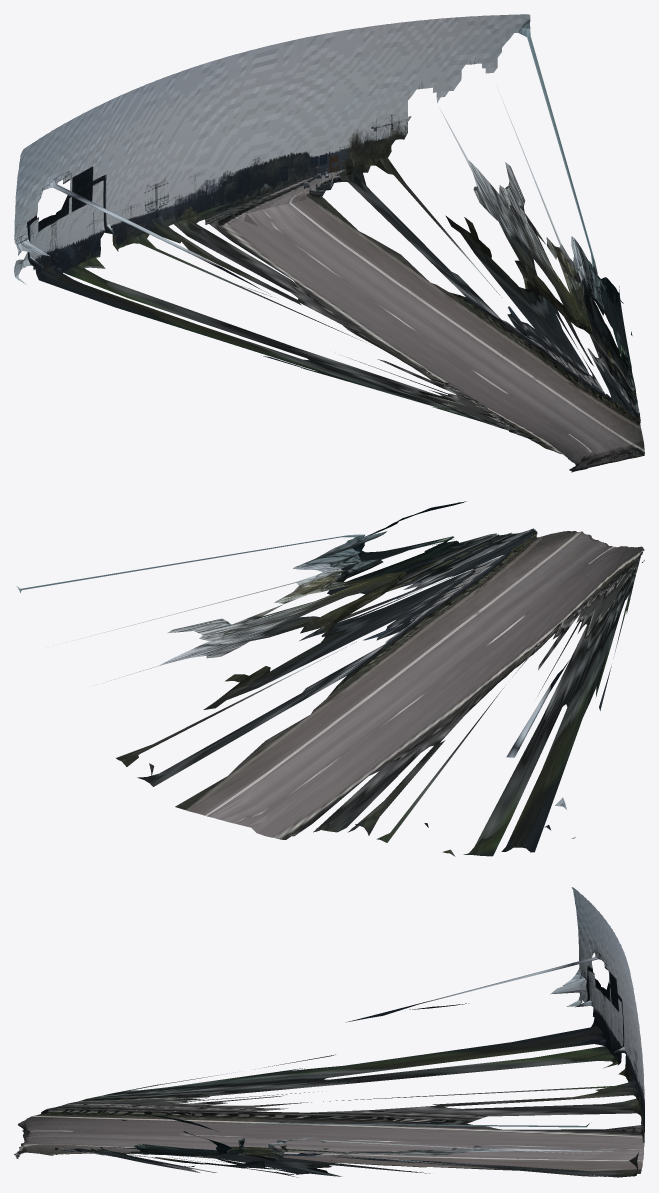
3 renders of one model, top to bottom at view 1: azimuth 30°, elevation 25°; view 2: azimuth 150°, elevation 25°; view 3: azimuth 270°, elevation 25°, orthographic. The views are drawn at different scales.
Parts seen in each view (by area): view 1: defaultobject; view 2: defaultobject; view 3: defaultobject.
Part boxes in pixels (x1,y1,x2,y2): defaultobject: (14, 14, 644, 472); defaultobject: (16, 501, 644, 856); defaultobject: (14, 887, 644, 1177).
Size of the model in its own units: 37.97 by 12.09 by 44.56.
1 material, 1 textured.
